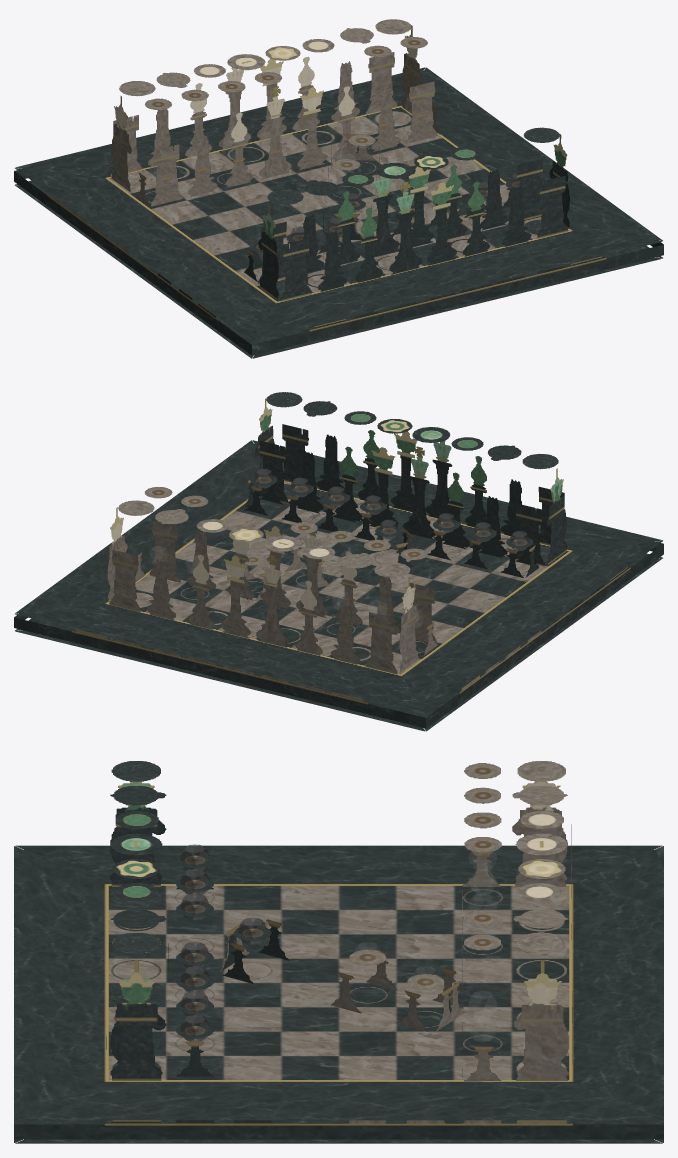
The model's file is chess-1024.glb.
The picture shows the model from 3 angles, top to bottom: view 1: azimuth 30°, elevation 25°; view 2: azimuth 150°, elevation 25°; view 3: azimuth 270°, elevation 25°; orthographic projection. The views are drawn at different scales.
Visible parts, largest first — view 1: box_impostor; view 2: box_impostor; view 3: box_impostor.
Part boxes in pixels (bbox=[...]): box_impostor: bbox=[14, 19, 663, 358]; box_impostor: bbox=[14, 392, 663, 731]; box_impostor: bbox=[14, 761, 663, 1143].
Bounding box in the file's own units: 0.7055 × 0.1798 × 0.7055.
17 materials, 17 textured.
